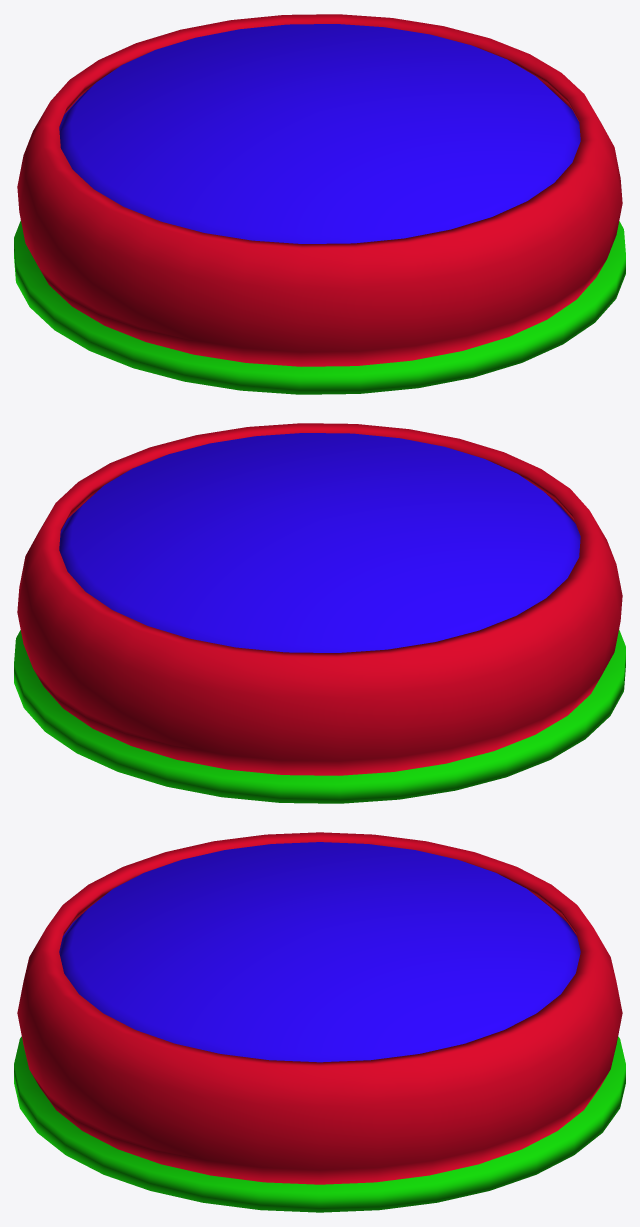
Rendered from the_thing.fbx.
The picture shows the model from 3 angles, top to bottom: view 1: azimuth 30°, elevation 25°; view 2: azimuth 150°, elevation 25°; view 3: azimuth 270°, elevation 25°; orthographic projection.
Parts seen in each view (by area): view 1: the_thing; view 2: the_thing; view 3: the_thing.
Part boxes in pixels (x1,y1,x2,y2): the_thing: [14, 14, 625, 394]; the_thing: [14, 423, 625, 803]; the_thing: [14, 832, 625, 1212].
Size of the model in its own units: 220 by 60.65 by 220.
